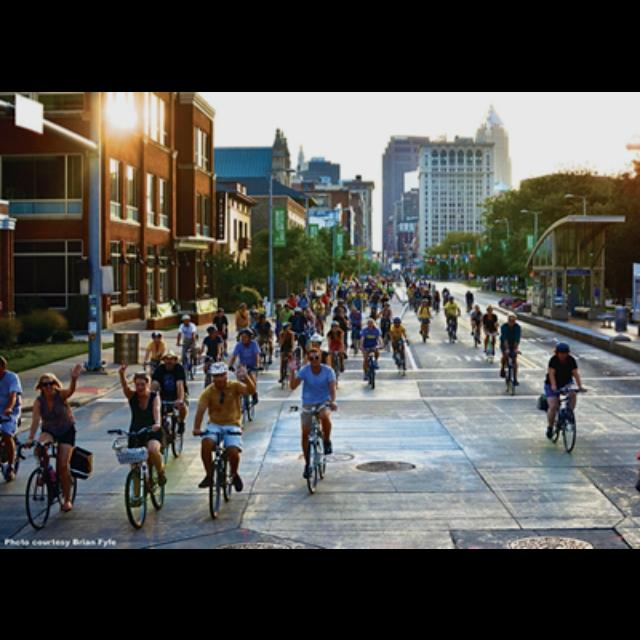With Helmet: (204, 361, 232, 387), (552, 337, 578, 363), (236, 326, 254, 344)
Without Helmet: (32, 370, 62, 400), (302, 344, 328, 370), (128, 369, 154, 395), (504, 310, 522, 328)
